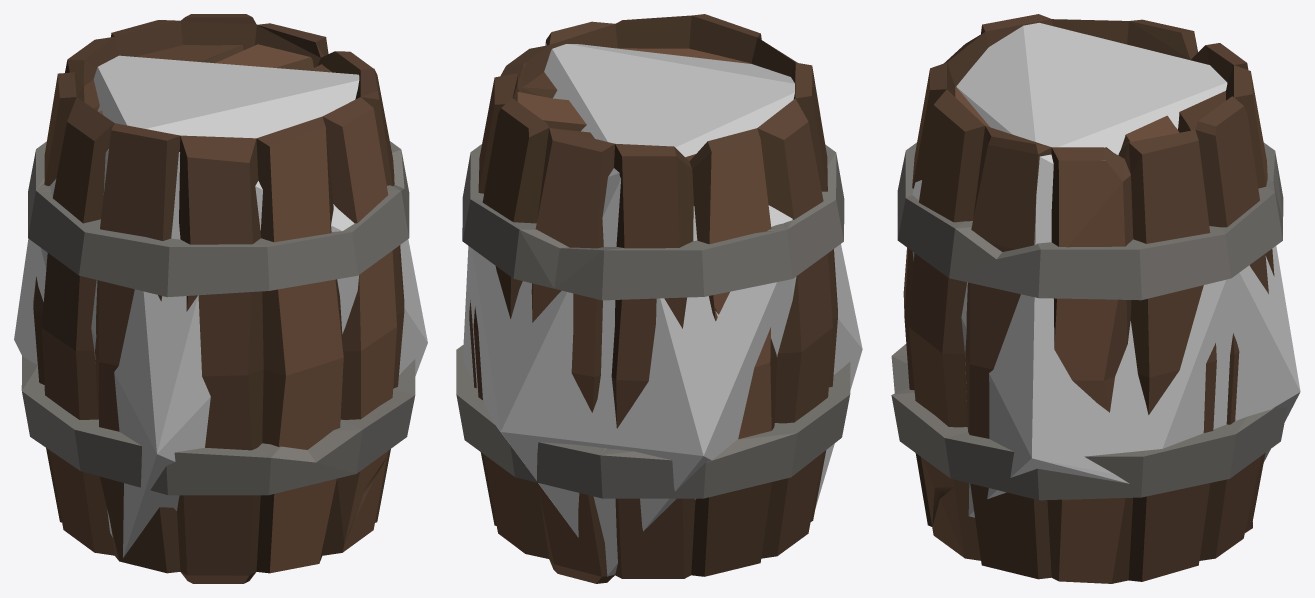
The model's file is SM_Prop_Barrel_01.fbx.
3 views of the same model, side by side, from view 1: azimuth 30°, elevation 25°; view 2: azimuth 150°, elevation 25°; view 3: azimuth 270°, elevation 25° (orthographic).
Visible parts, largest first — view 1: SM_Prop_Barrel_01, SM_Prop_Barrel_01_ConvexHulls; view 2: SM_Prop_Barrel_01, SM_Prop_Barrel_01_ConvexHulls; view 3: SM_Prop_Barrel_01, SM_Prop_Barrel_01_ConvexHulls.
Part boxes in pixels (x1=…): SM_Prop_Barrel_01: x1=21, y1=14, x2=415, y2=583; SM_Prop_Barrel_01_ConvexHulls: x1=14, y1=55, x2=427, y2=557; SM_Prop_Barrel_01: x1=456, y1=14, x2=850, y2=583; SM_Prop_Barrel_01_ConvexHulls: x1=462, y1=43, x2=862, y2=576; SM_Prop_Barrel_01: x1=891, y1=14, x2=1287, y2=583; SM_Prop_Barrel_01_ConvexHulls: x1=912, y1=22, x2=1300, y2=517.
Bounding box in the file's own units: 73.35 × 73.28 × 89.27.
Materials: 2 (1 with a texture image).
